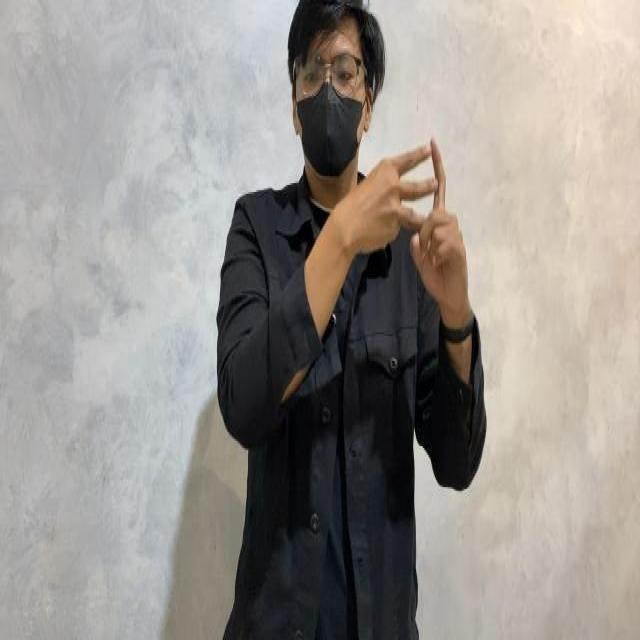B: (372, 133, 457, 245)
